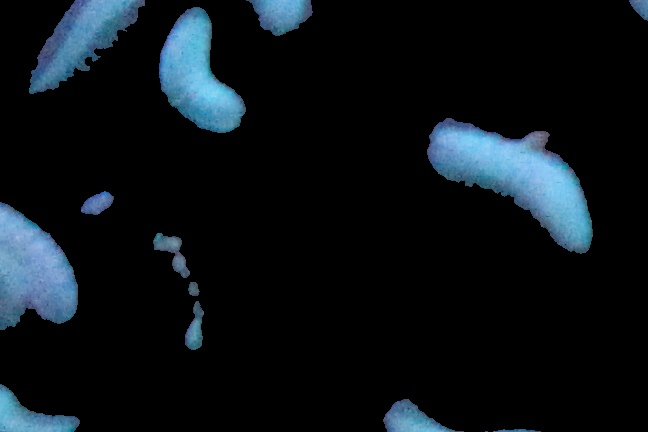larvae: (427, 107, 592, 256), (1, 197, 88, 330), (36, 1, 145, 90), (166, 9, 247, 127), (149, 1, 303, 27)
